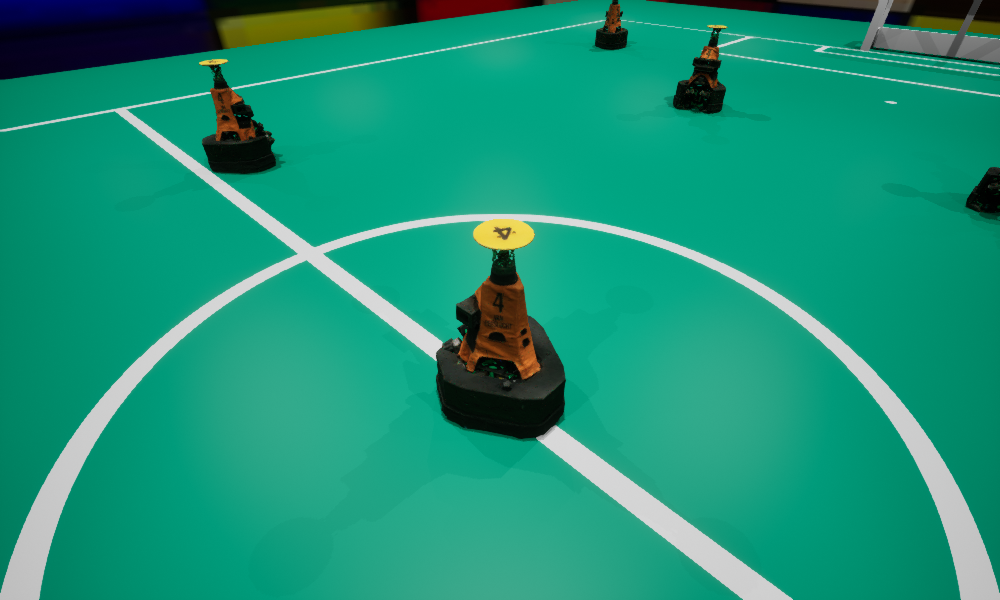o: (436, 219, 565, 438), (199, 59, 275, 173), (673, 25, 727, 112), (595, 0, 627, 49), (966, 167, 999, 212)
